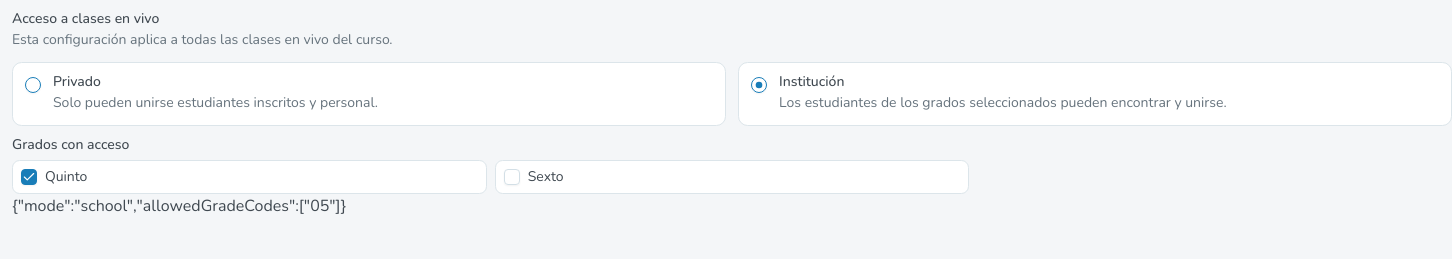
Test: the shared grade picker preserves institutional live access and its empty-selection validation
Click the checkbox named "Sexto" next to "Sexto" at (512,177), box [504,169,520,185]
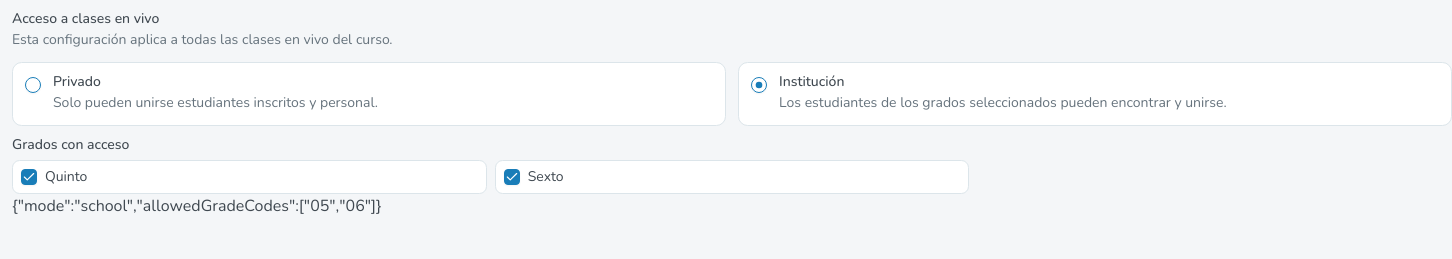
Click the checkbox named "Quinto" next to "Quinto" at (29,177), box [21,169,37,185]
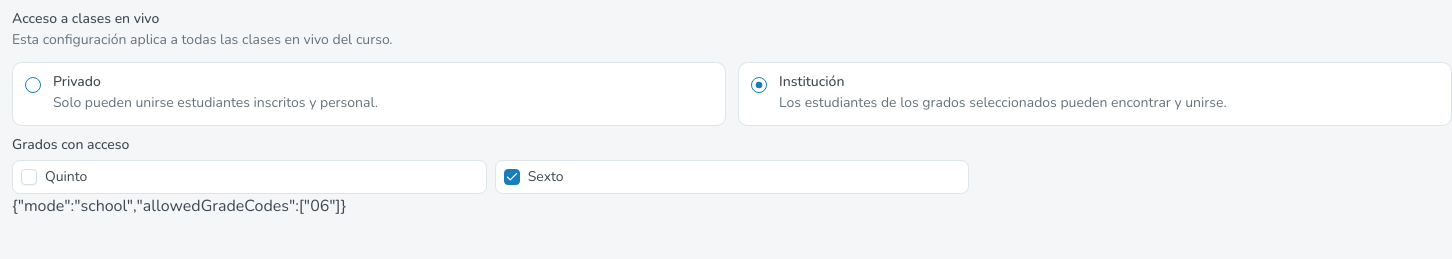
Click the checkbox named "Sexto" next to "Sexto" at (512,177), box [504,169,520,185]
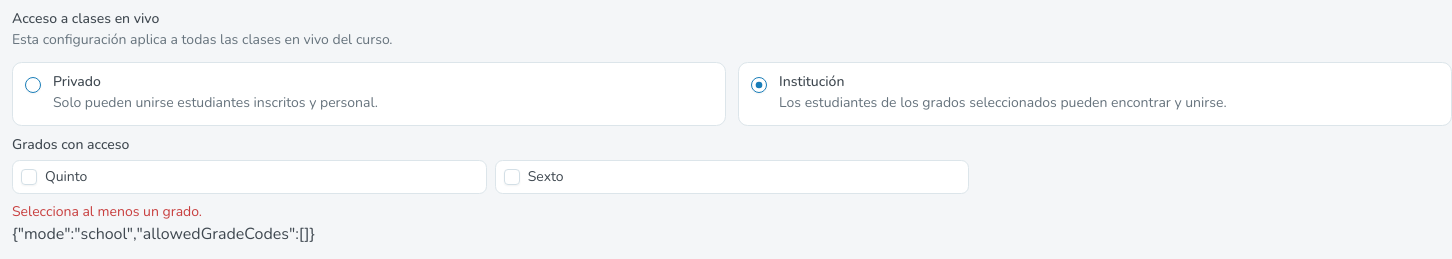
Result: the text "Selecciona al menos un grado." is shown at [12,202,202,221]
